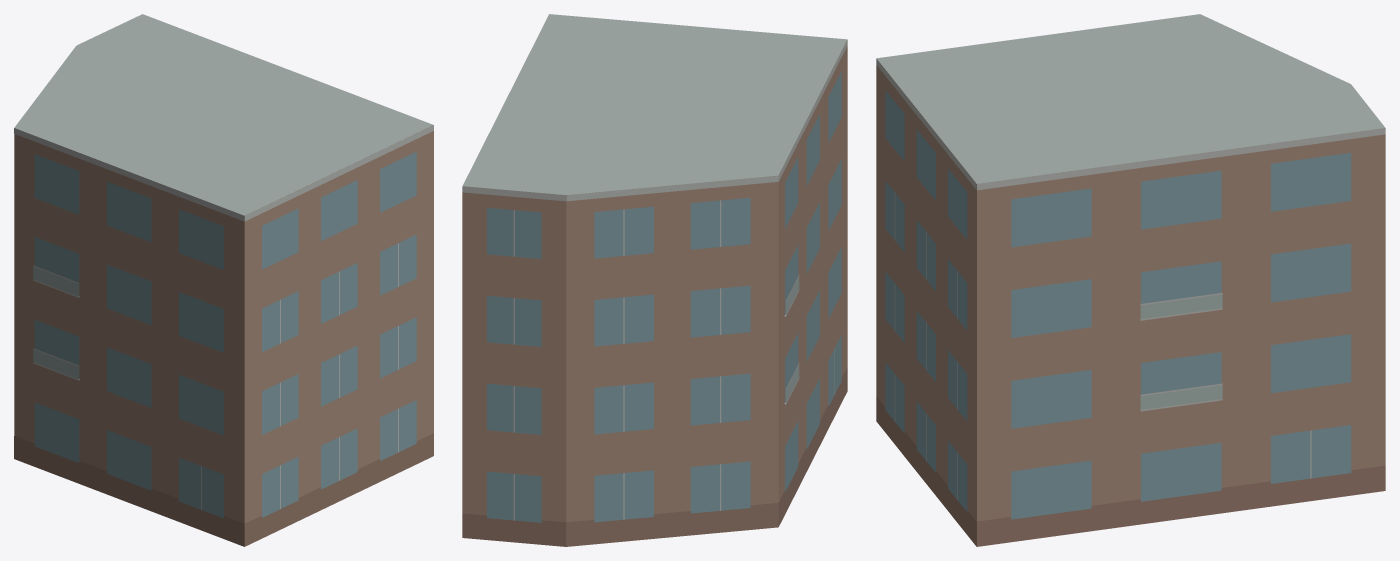
File: survey-upis-32734549.glb
The picture shows the model from 3 angles, left to right: view 1: azimuth 30°, elevation 25°; view 2: azimuth 150°, elevation 25°; view 3: azimuth 270°, elevation 25°; orthographic projection. The views are drawn at different scales.
Visible parts, largest first — view 1: survey-upis-32734549.tmp; view 2: survey-upis-32734549.tmp; view 3: survey-upis-32734549.tmp.
Part boxes in pixels (x1,y1,x2,y2): survey-upis-32734549.tmp: [14, 14, 433, 546]; survey-upis-32734549.tmp: [462, 14, 847, 546]; survey-upis-32734549.tmp: [876, 14, 1385, 546].
Bounding box in the file's own units: 13.87 × 13.8 × 17.56.
